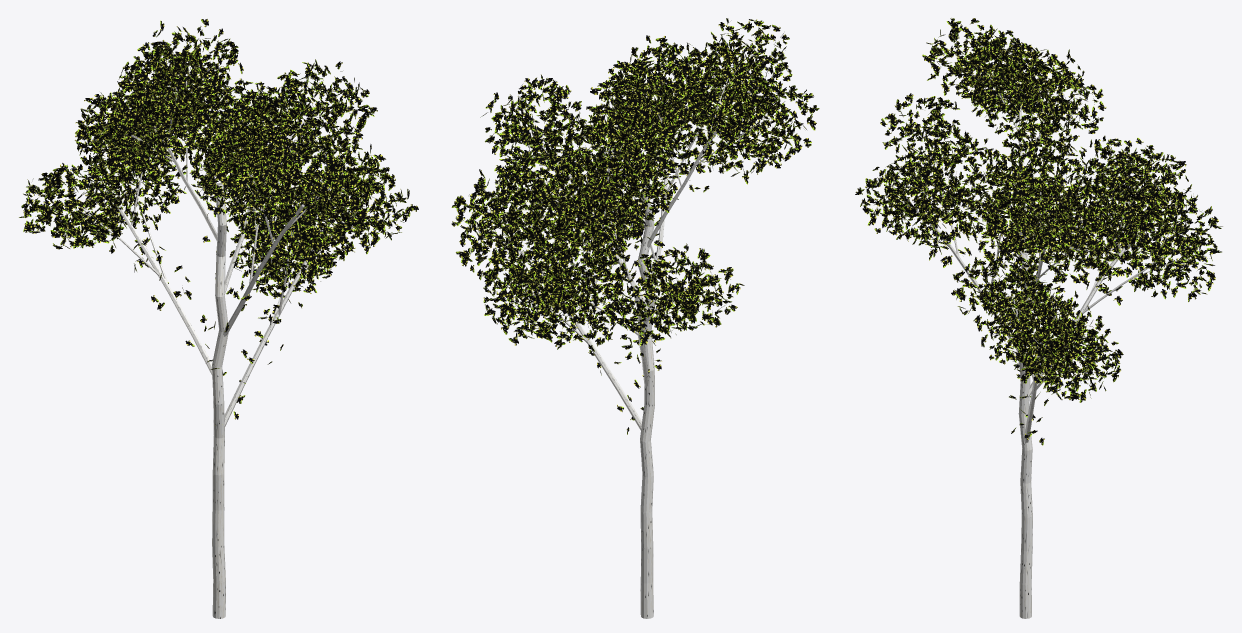
Rendered from birch_pale_v03.fbx.
3 views of the same model, side by side, from view 1: azimuth 30°, elevation 25°; view 2: azimuth 150°, elevation 25°; view 3: azimuth 270°, elevation 25° (orthographic). The views are drawn at different scales.
Visible parts, largest first — view 1: birch_pale_v03; view 2: birch_pale_v03; view 3: birch_pale_v03.
Boxes of the visible parts, x1,y1,x2,y2 form: birch_pale_v03: (19, 19, 418, 618); birch_pale_v03: (451, 18, 819, 618); birch_pale_v03: (855, 18, 1222, 618).
Size of the model in its own units: 1223 by 1215 by 2027.
Materials: 2 (2 with a texture image).
